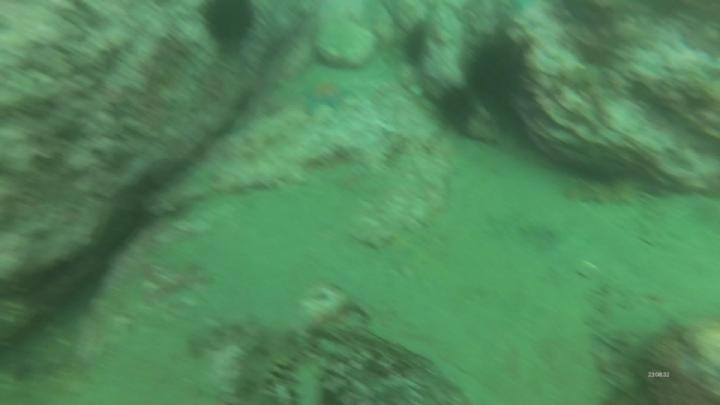echinus: (459, 28, 535, 110), (197, 0, 260, 53), (432, 82, 480, 133), (397, 21, 435, 70)
holothurian: (226, 324, 315, 405), (557, 173, 653, 211)
starfish: (295, 74, 355, 118)
